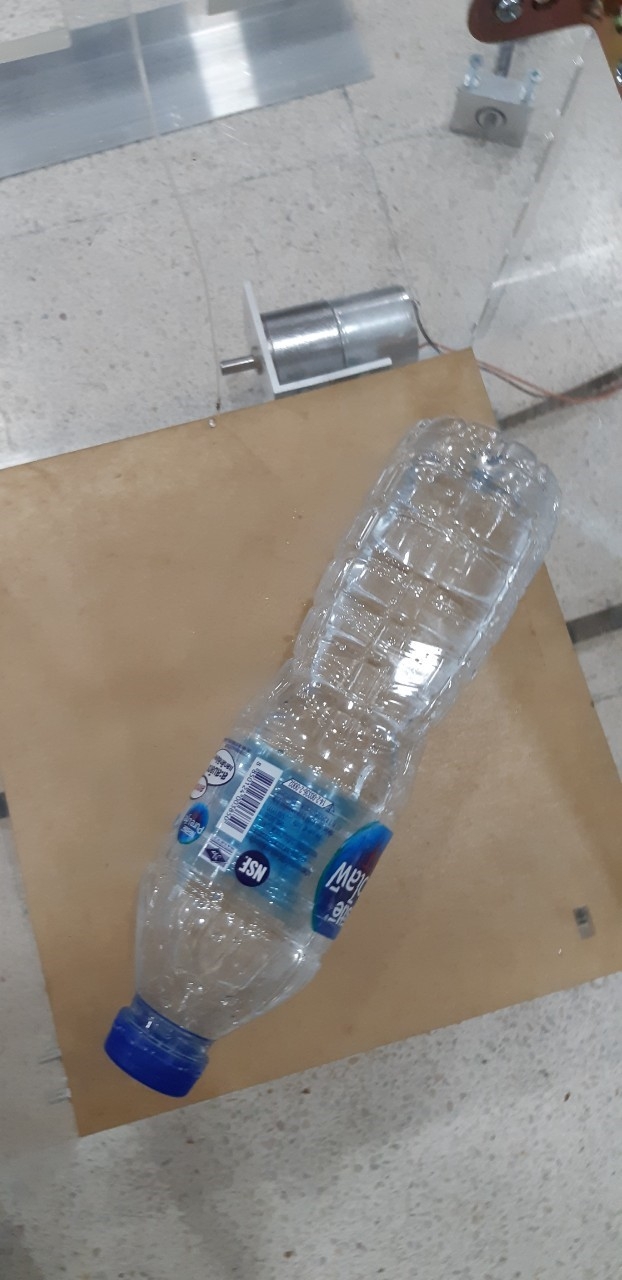PlasticBottle: (102, 421, 562, 1095)
